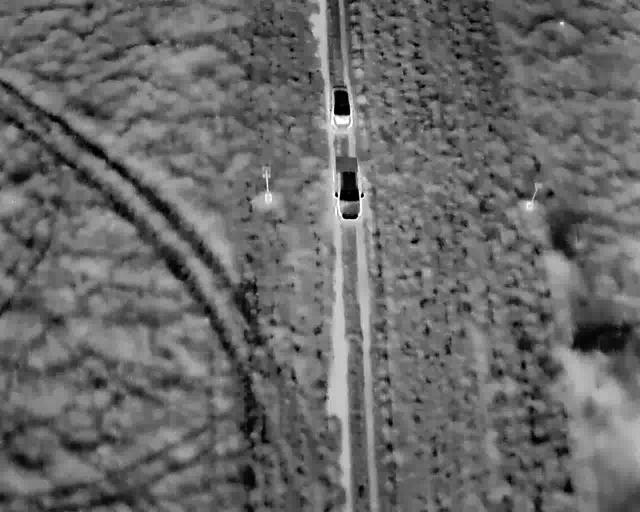car: (331, 154, 364, 221), (327, 85, 355, 130)
